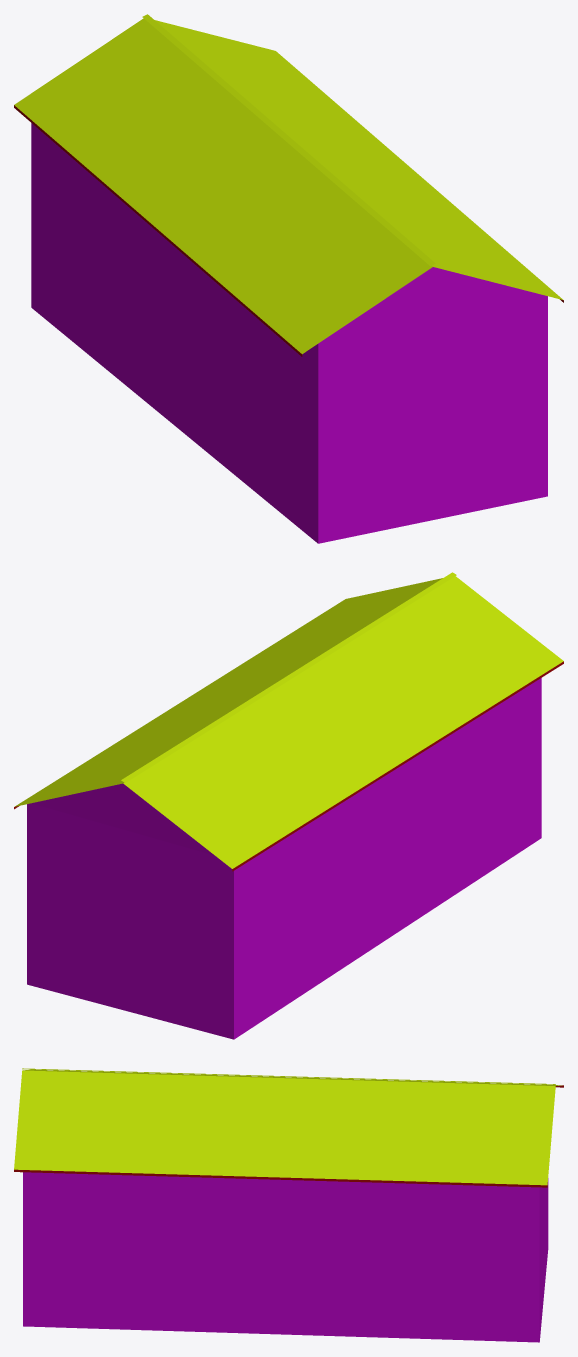
The model's file is bgj_254.glb.
3 views of the same model, one above another, from view 1: azimuth 30°, elevation 25°; view 2: azimuth 150°, elevation 25°; view 3: azimuth 270°, elevation 25° (orthographic). The views are drawn at different scales.
Parts seen in each view (by area): view 1: bgj_254; view 2: bgj_254; view 3: bgj_254.
Part boxes in pixels (x1,y1,x2,y2): bgj_254: [14, 14, 563, 543]; bgj_254: [14, 572, 563, 1039]; bgj_254: [14, 1068, 563, 1342].
Size of the model in its own units: 13.02 by 11.15 by 26.16.
